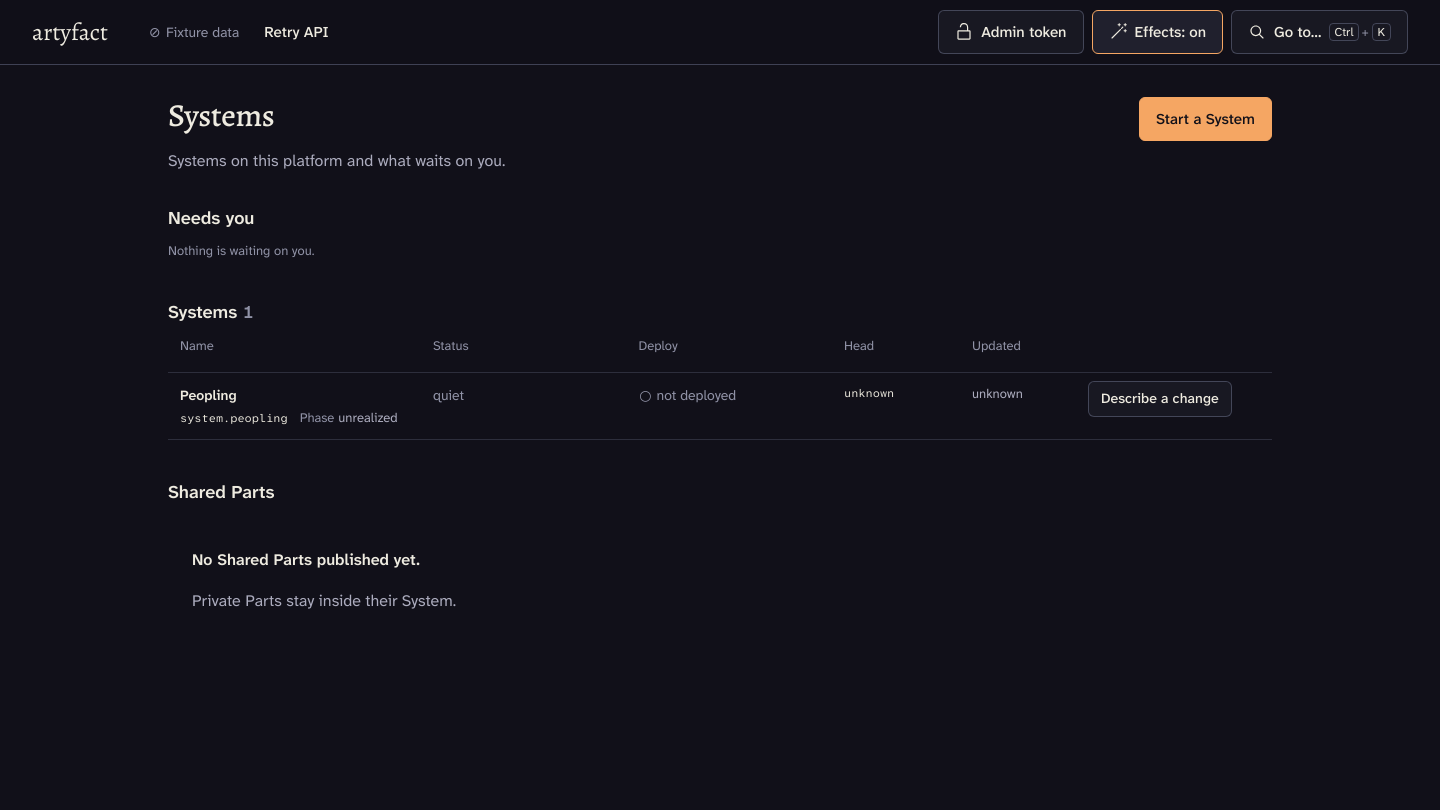
it: Shell › renders Home at /
Expected: the heading "Systems" is shown, [168,97,274,134]
Click the link "Peopling" at (208,395), box [168,373,1088,439]
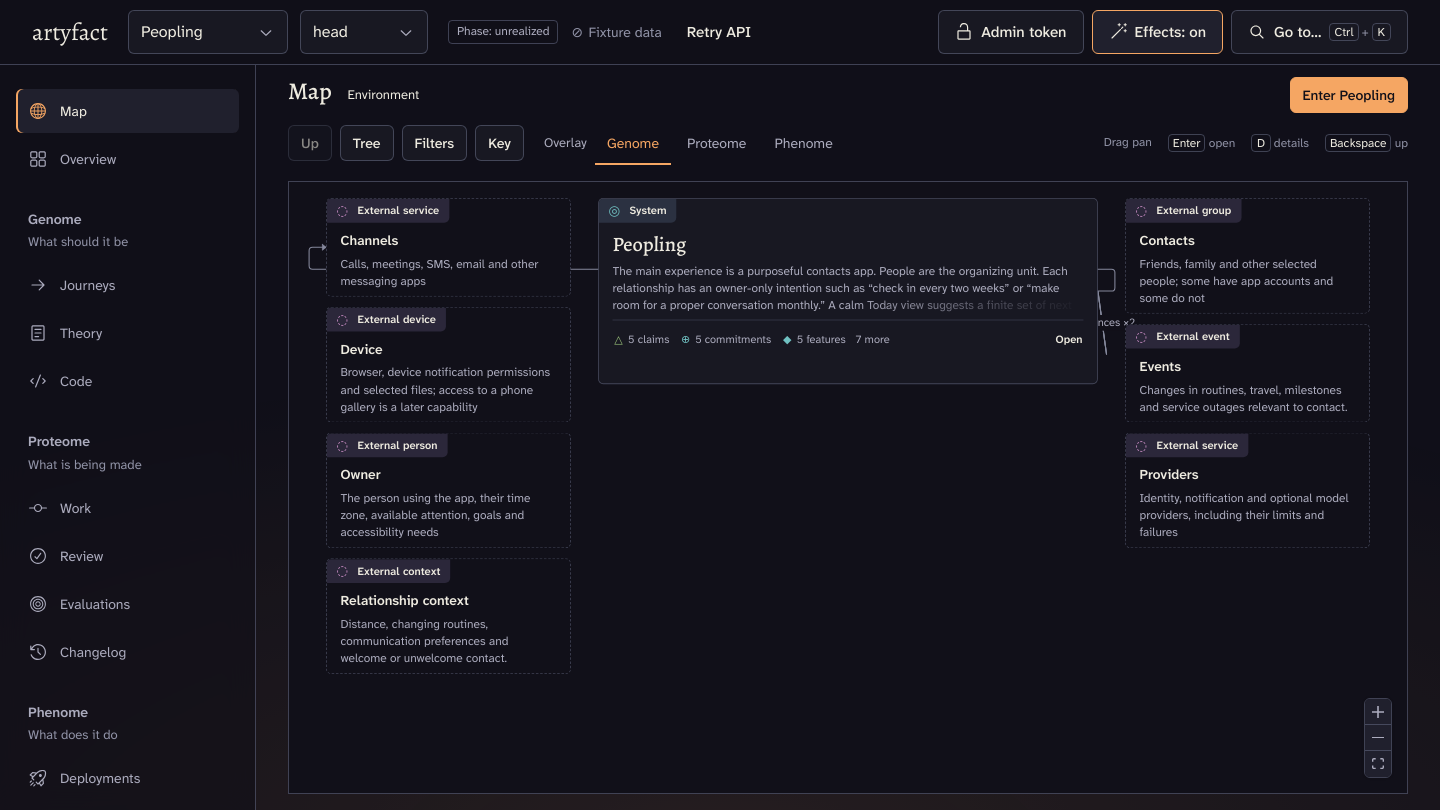
Expected: the heading "Map" is shown, [288,77,332,106]
